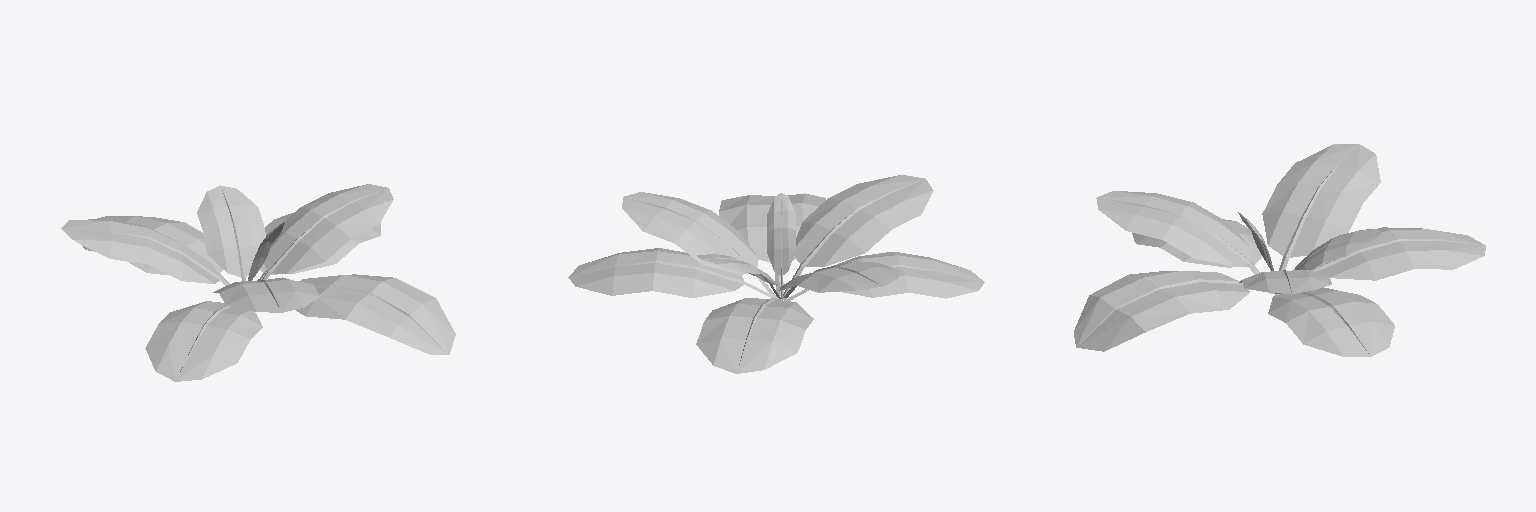
Rendered from plant_5.obj.
The picture shows the model from 3 angles: view 1: azimuth 30°, elevation 25°; view 2: azimuth 150°, elevation 25°; view 3: azimuth 270°, elevation 25°; orthographic projection.
Visible parts, largest first — view 1: Plane.005_Plane.036; view 2: Plane.005_Plane.036; view 3: Plane.005_Plane.036.
Boxes of the visible parts, <box> form: Plane.005_Plane.036: <box>61,184,455,381</box>; Plane.005_Plane.036: <box>568,175,984,373</box>; Plane.005_Plane.036: <box>1074,144,1485,356</box>.
Size of the model in its own units: 3.77 by 1.08 by 4.3.